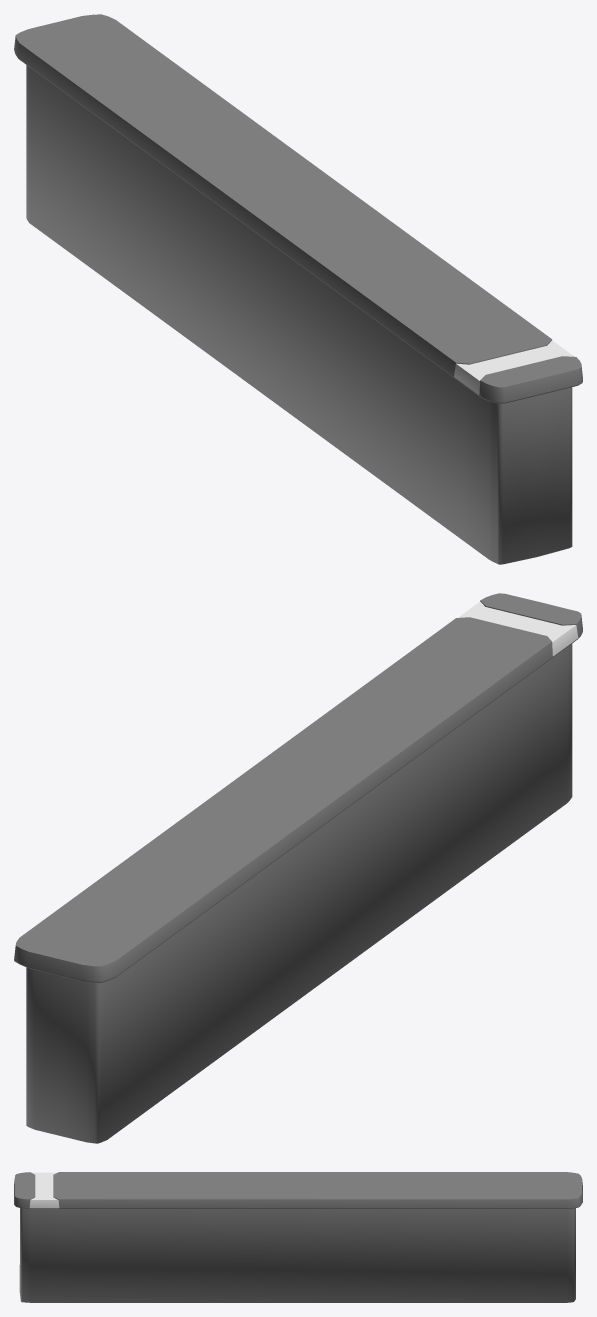
The model's file is Platform_2.fbx.
3 views of the same model, one above another, from view 1: azimuth 30°, elevation 25°; view 2: azimuth 150°, elevation 25°; view 3: azimuth 270°, elevation 25° (orthographic). The views are drawn at different scales.
Parts seen in each view (by area): view 1: Plafrom_2; view 2: Plafrom_2; view 3: Plafrom_2.
Part boxes in pixels (bbox=[...]): Plafrom_2: bbox=[14, 14, 582, 564]; Plafrom_2: bbox=[14, 593, 582, 1143]; Plafrom_2: bbox=[14, 1172, 582, 1302].
Size of the model in its own units: 1254 by 2200 by 10708.
